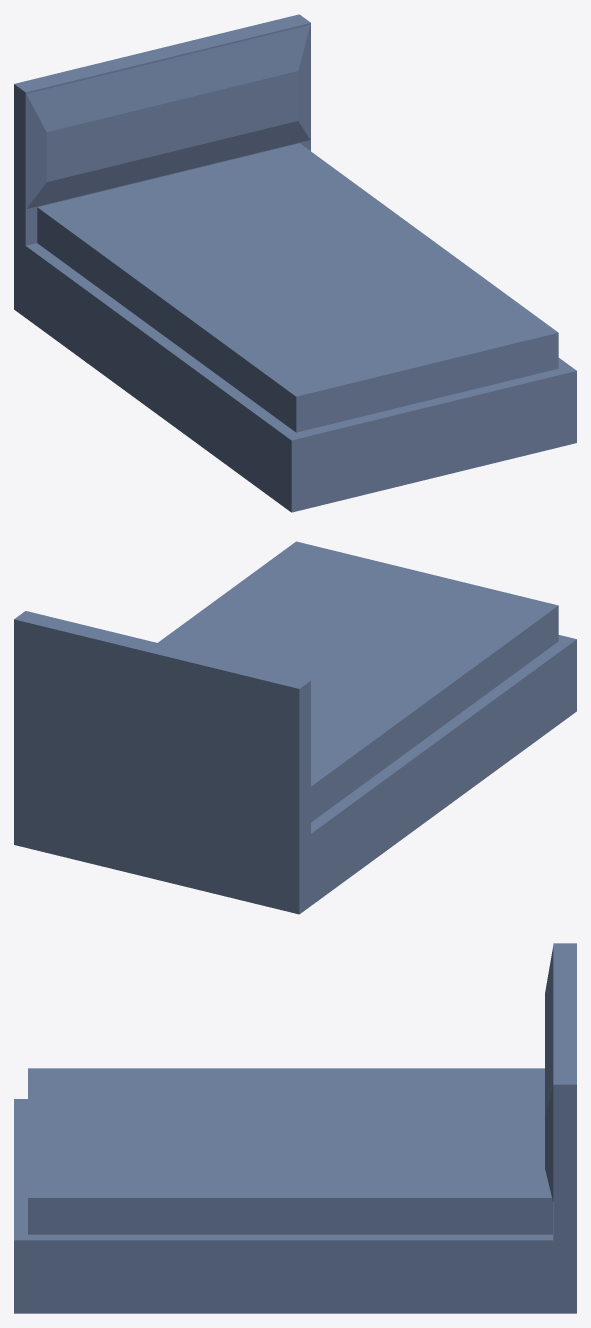
The model's file is Bed_small_1135_1912_857.fbx.
3 views of the same model, one above another, from view 1: azimuth 30°, elevation 25°; view 2: azimuth 150°, elevation 25°; view 3: azimuth 270°, elevation 25° (orthographic).
Visible parts, largest first — view 1: Bed_small_1135_1912_857; view 2: Bed_small_1135_1912_857; view 3: Bed_small_1135_1912_857.
Part boxes in pixels (<box>): Bed_small_1135_1912_857: <box>14,14,576,512</box>; Bed_small_1135_1912_857: <box>14,541,576,914</box>; Bed_small_1135_1912_857: <box>14,943,576,1313</box>.
Bounding box in the file's own units: 114 × 85.75 × 191.
